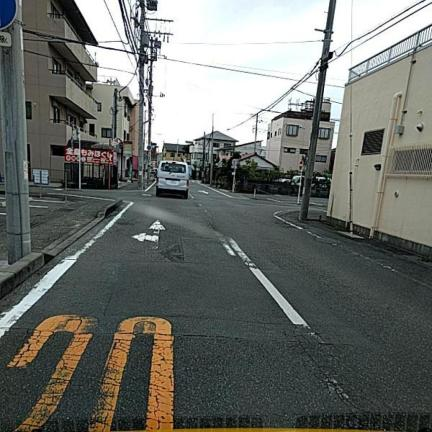Road: (0, 183, 431, 431)
